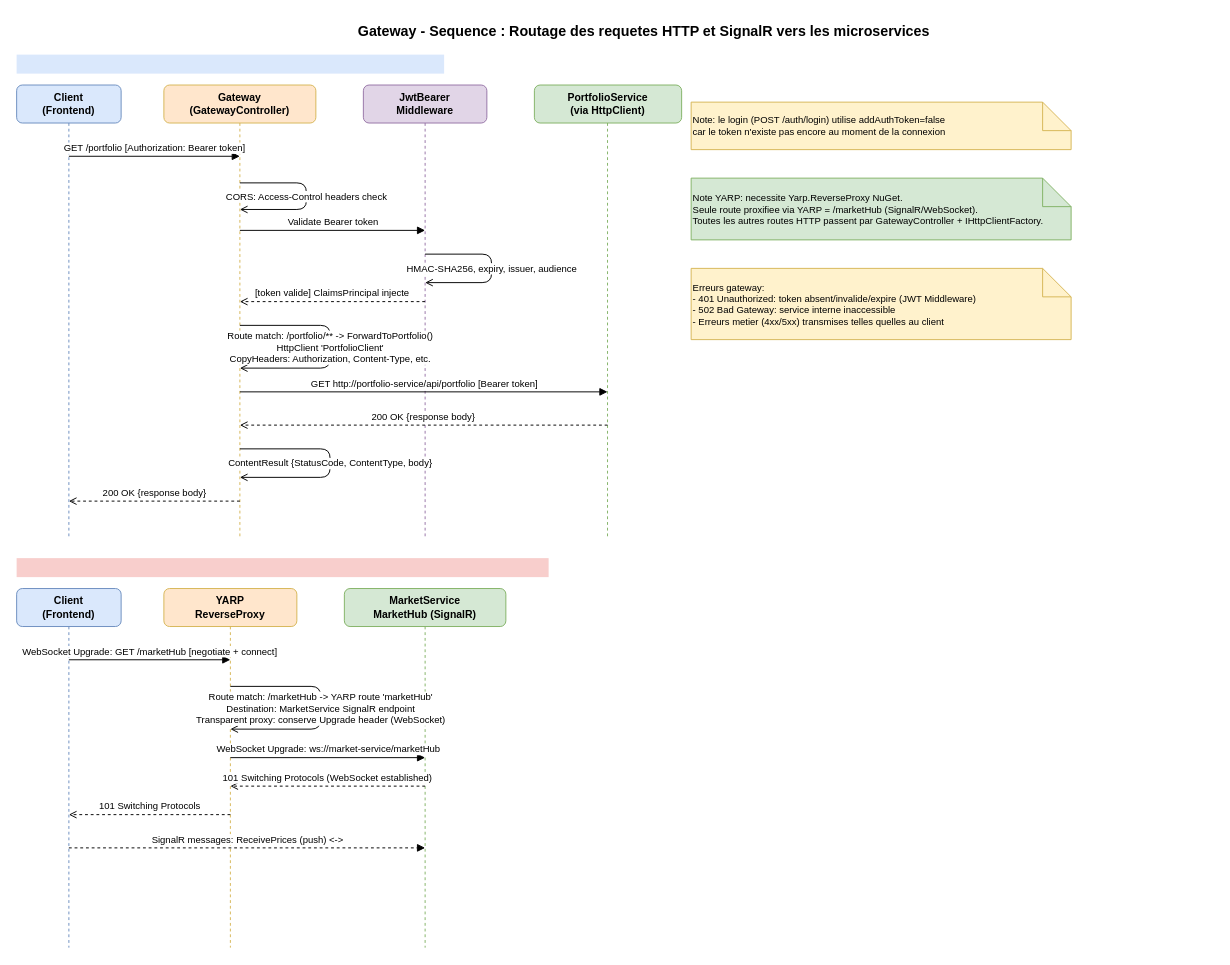
The diagram is 1230 pixels wide and 965 high, and some of its shapes have lost their labels. Each missing label, with the box of its shape:
Partie 1 : Requete HTTP classique (ex: GET /portfolio): (16, 54, 444, 73)
Partie 2 : SignalR WebSocket (/marketHub) - via YARP ReverseProxy: (16, 558, 548, 577)
